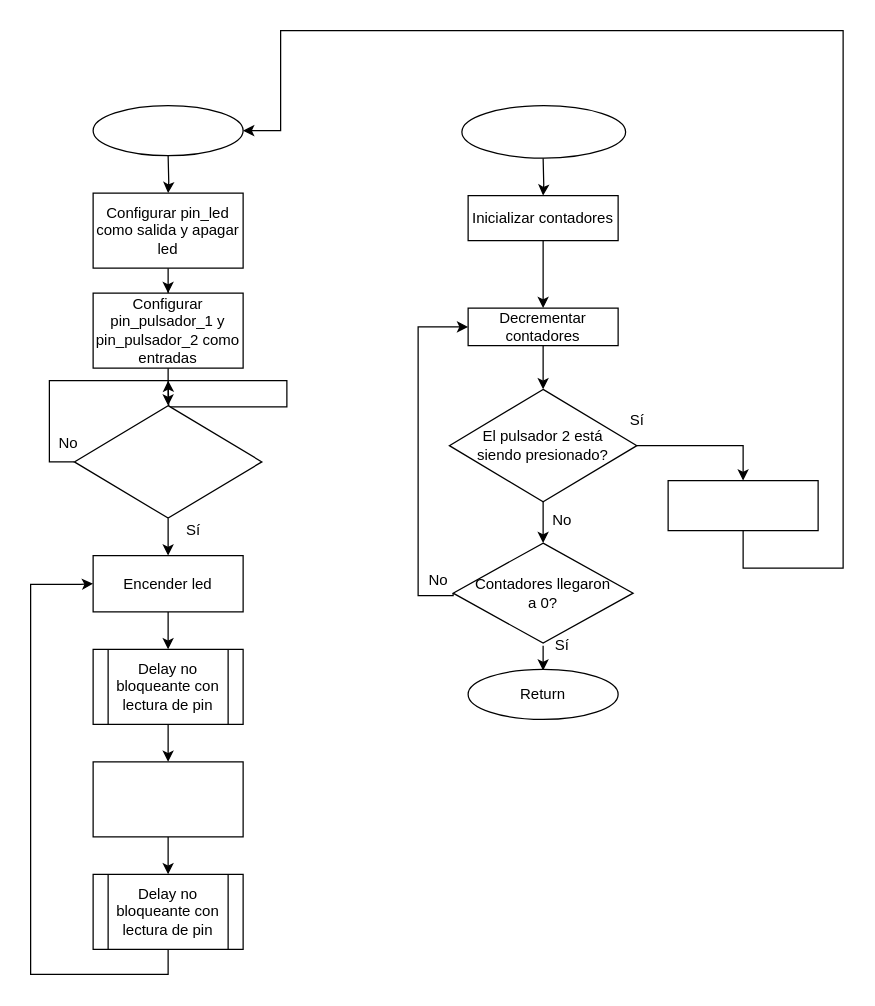
This 875x1006 diagram has some shape labels left out. Each missing label, with the centre of its shape:
Apagar led: the point at 167,799
Delay: the point at 543,131
Desapilar direccion de retorno: the point at 742,505
El pulsador 1 está siendo presionado?: the point at 167,461
Inicio: the point at 167,130
